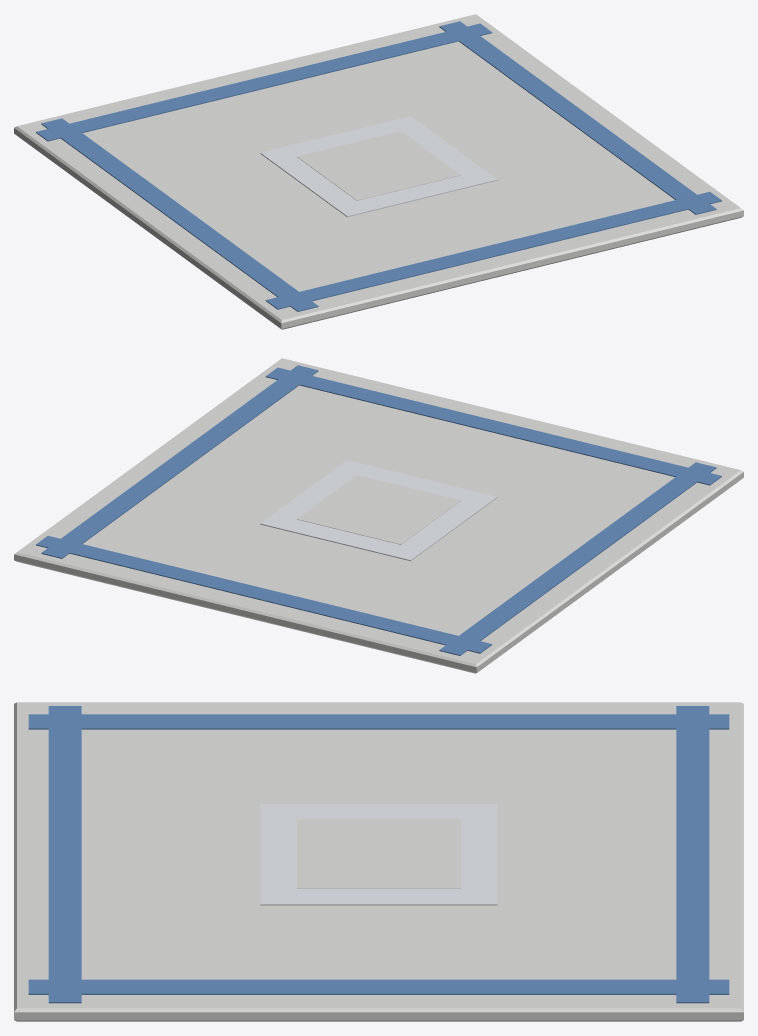
Rendered from airport-terminal-and-ground-operations-terminal-floor--a890a4e0.glb.
The picture shows the model from 3 angles, top to bottom: view 1: azimuth 30°, elevation 25°; view 2: azimuth 150°, elevation 25°; view 3: azimuth 270°, elevation 25°; orthographic projection. The views are drawn at different scales.
Parts seen in each view (by area): view 1: terminal-floor-tile; view 2: terminal-floor-tile; view 3: terminal-floor-tile.
Part boxes in pixels (x1,y1,x2,y2): terminal-floor-tile: (14,14,743,329); terminal-floor-tile: (14,358,743,673); terminal-floor-tile: (14,702,743,1021).
Size of the model in its own units: 4 by 0.0908 by 4.
